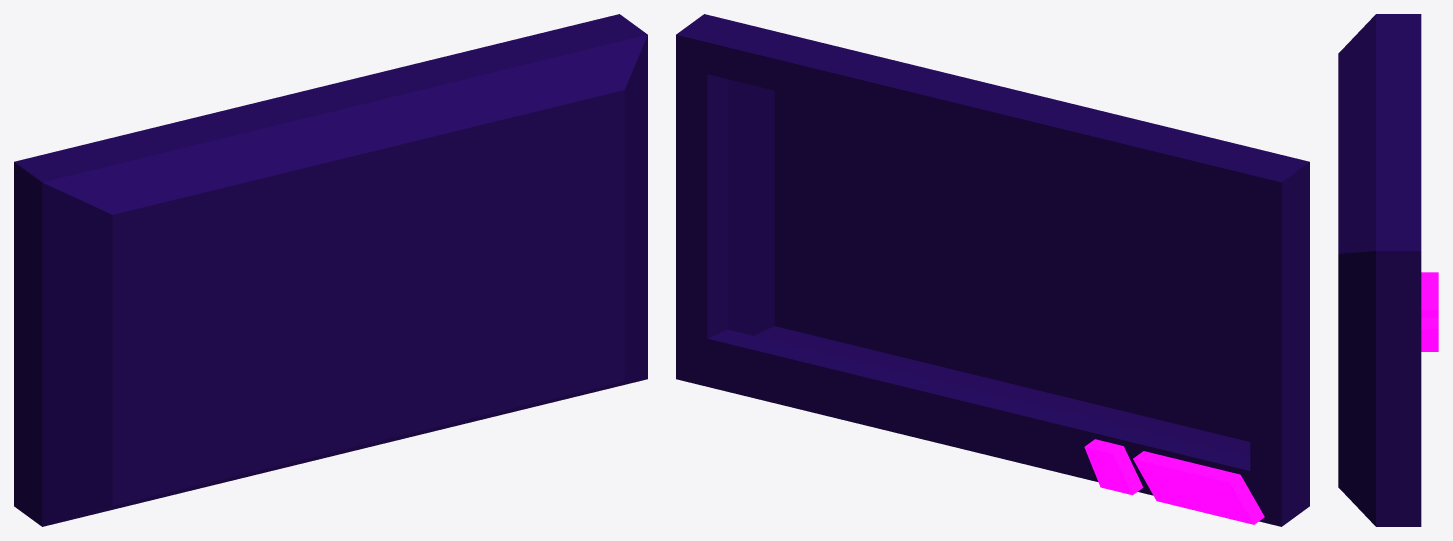
File: monitor_frame.fbx
3 renders of one model, left to right at view 1: azimuth 30°, elevation 25°; view 2: azimuth 150°, elevation 25°; view 3: azimuth 270°, elevation 25°, orthographic. The views are drawn at different scales.
Visible parts, largest first — view 1: monitor; view 2: monitor; view 3: monitor.
Boxes of the visible parts, box(x1,y1,x2,y2) form: monitor: box(14, 14, 647, 526); monitor: box(676, 14, 1309, 526); monitor: box(1338, 14, 1438, 526).
Bounding box in the file's own units: 112 × 60.73 × 20.
